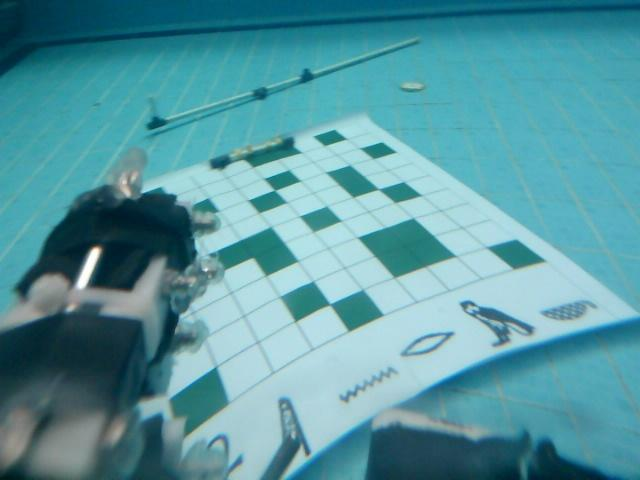Basket: (539, 297, 599, 321)
Mouth: (399, 331, 457, 358)
Owl: (459, 300, 537, 347)
Reed: (274, 398, 314, 458)
Water: (339, 364, 398, 402)
